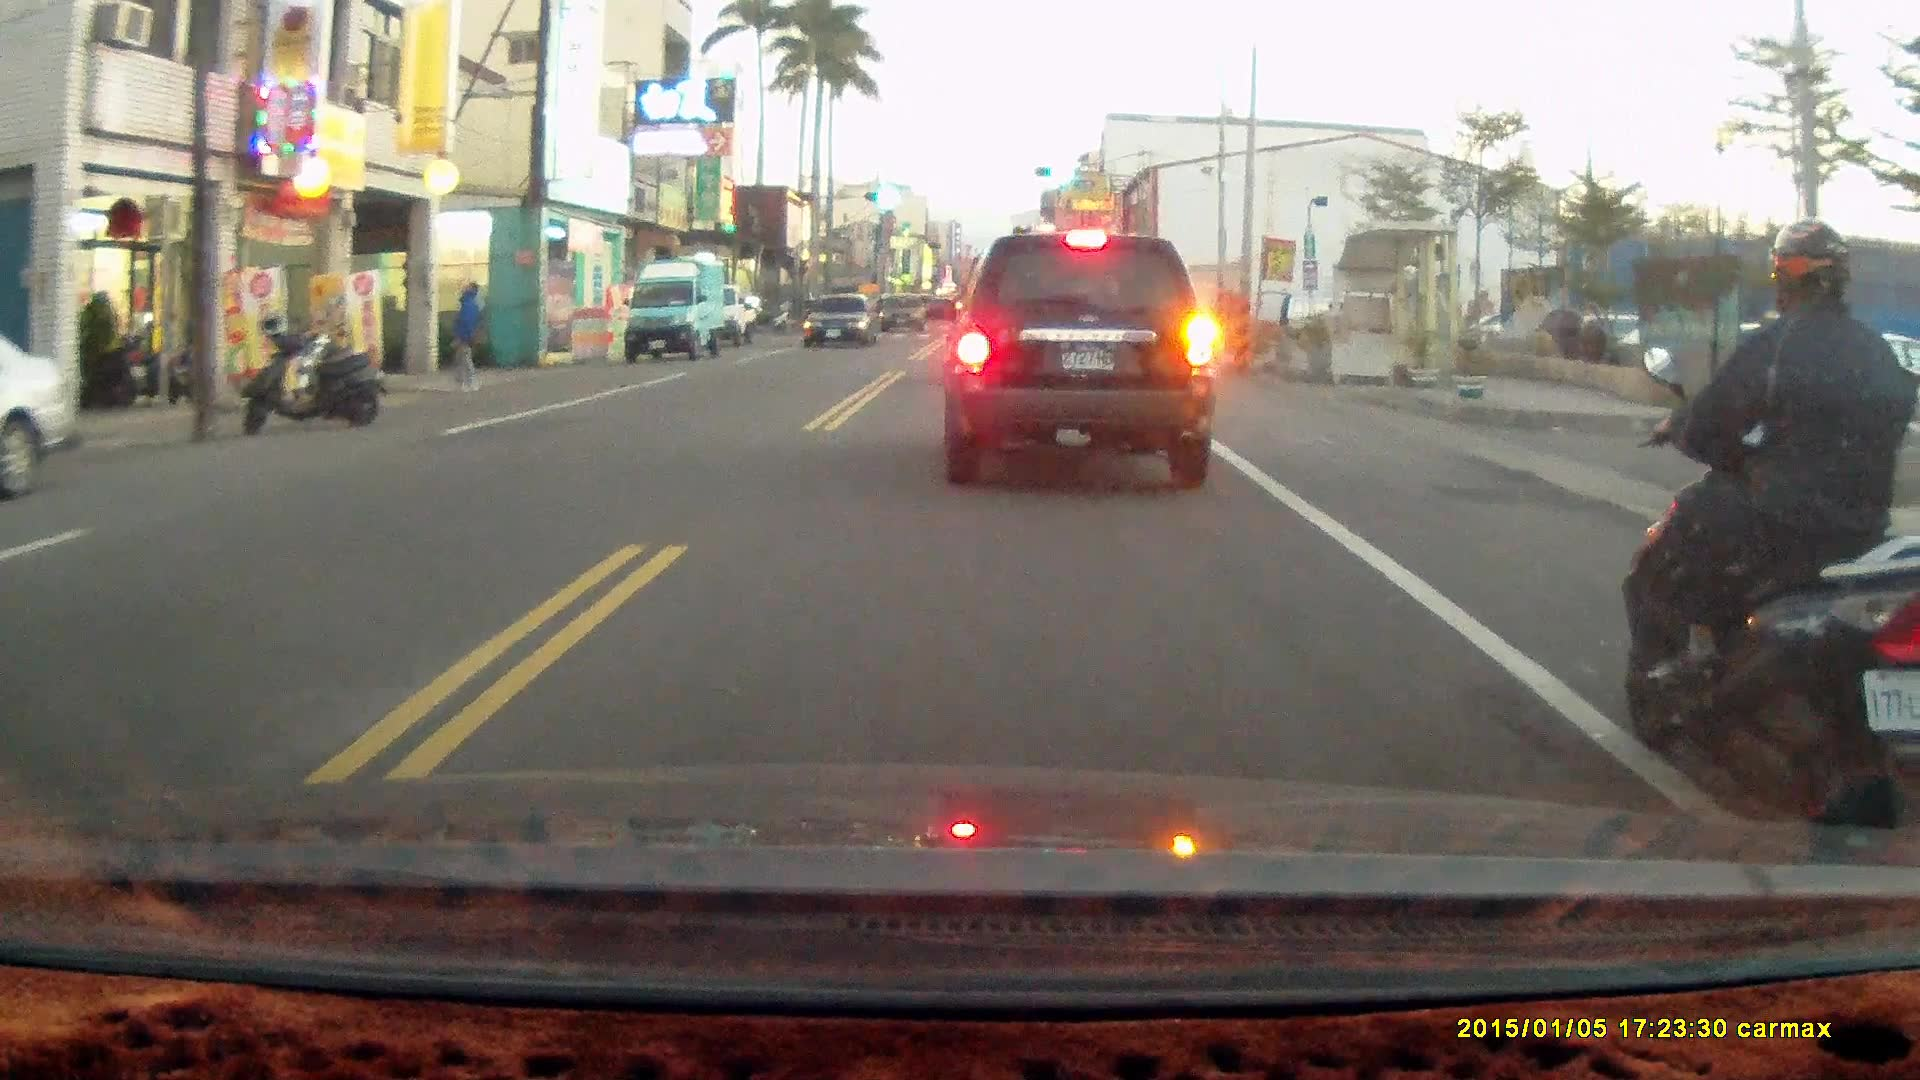pedestrian: (450, 278, 485, 391)
rider: (1620, 219, 1920, 848)
vehicle: (938, 231, 1219, 489), (1, 322, 83, 503), (622, 264, 729, 366), (802, 295, 884, 351), (878, 295, 927, 334)
